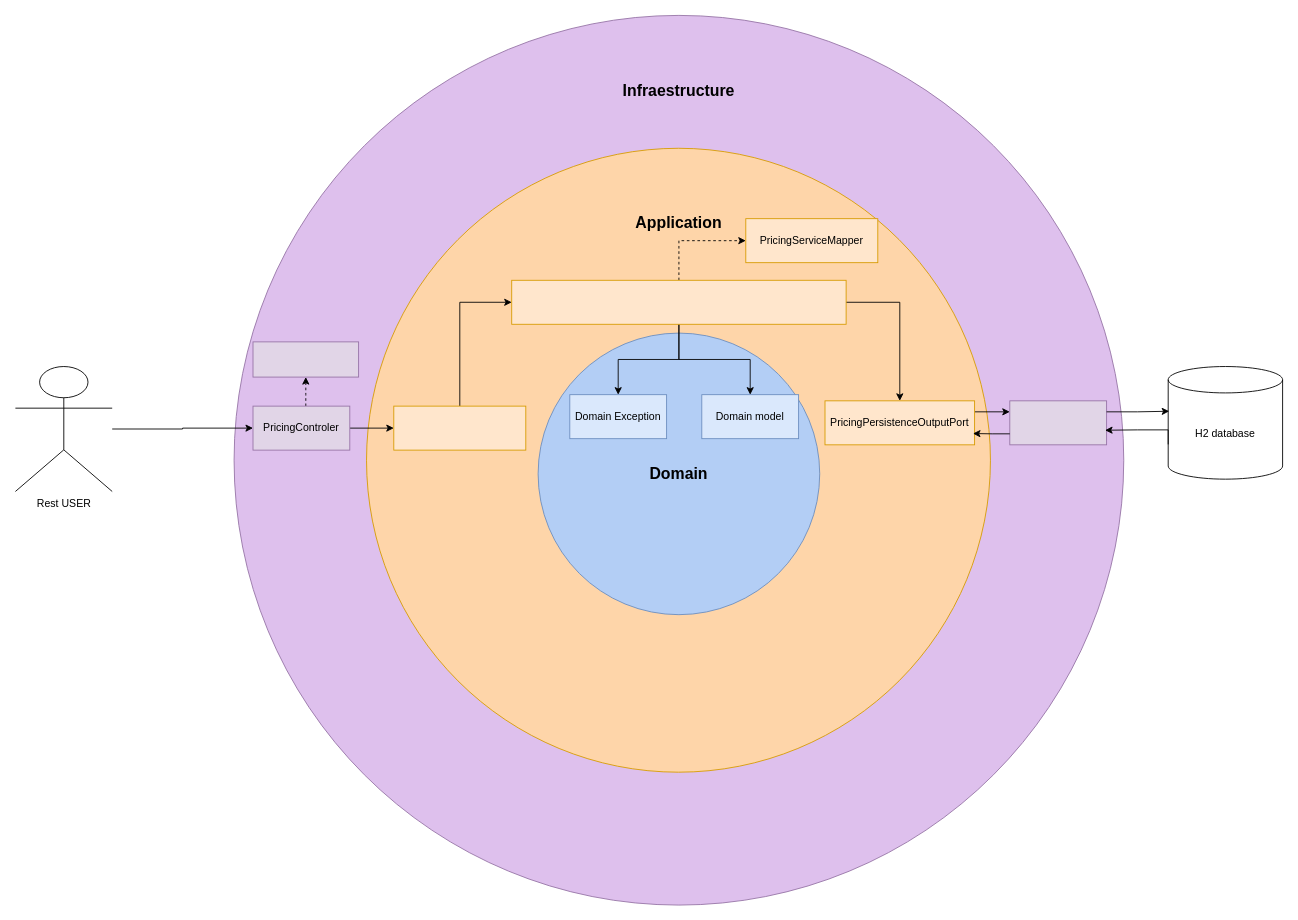
Image size: 1298x920. Some labels were removed from this diagram. The box of each missing label's shape, as (x1, y1, x2, y2) in pixels:
GetPricingInputPort (useCase): (393, 405, 526, 450)
Pricing Service: (511, 279, 846, 324)
PricingH2Adapter: (1009, 400, 1107, 445)
PricingRESTMaper: (252, 341, 359, 377)
